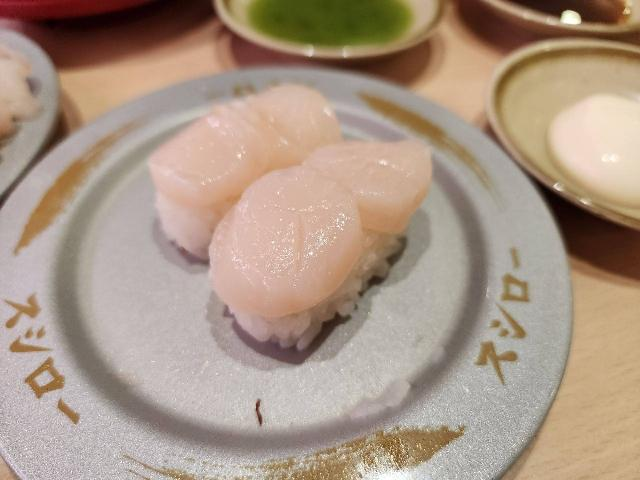janwhite: (45, 118, 479, 445), (0, 33, 77, 146)
